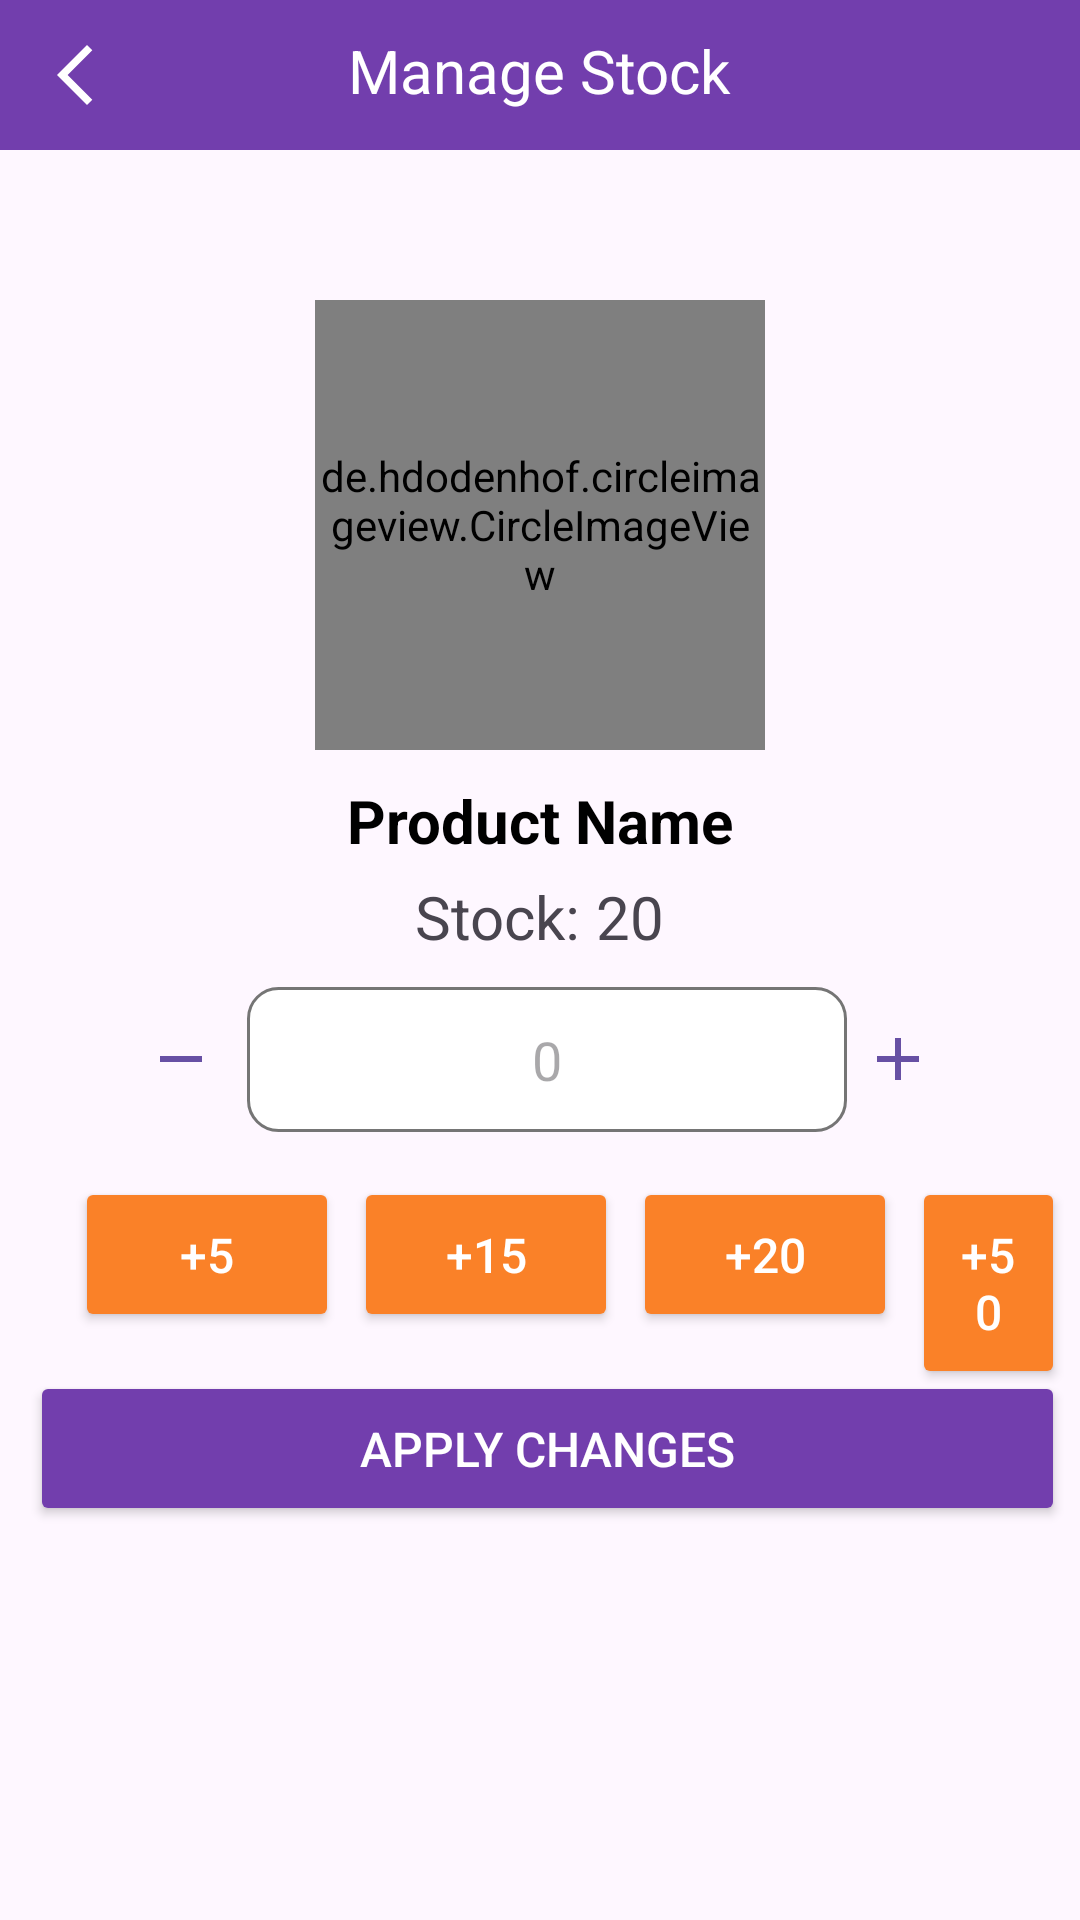

Icon bounding boxes for this 1080px x 1920px phone screenshot, format box(x1, y1, x2, y2):
add: box(877, 1038, 919, 1080)
arrow back: box(57, 45, 92, 105)
